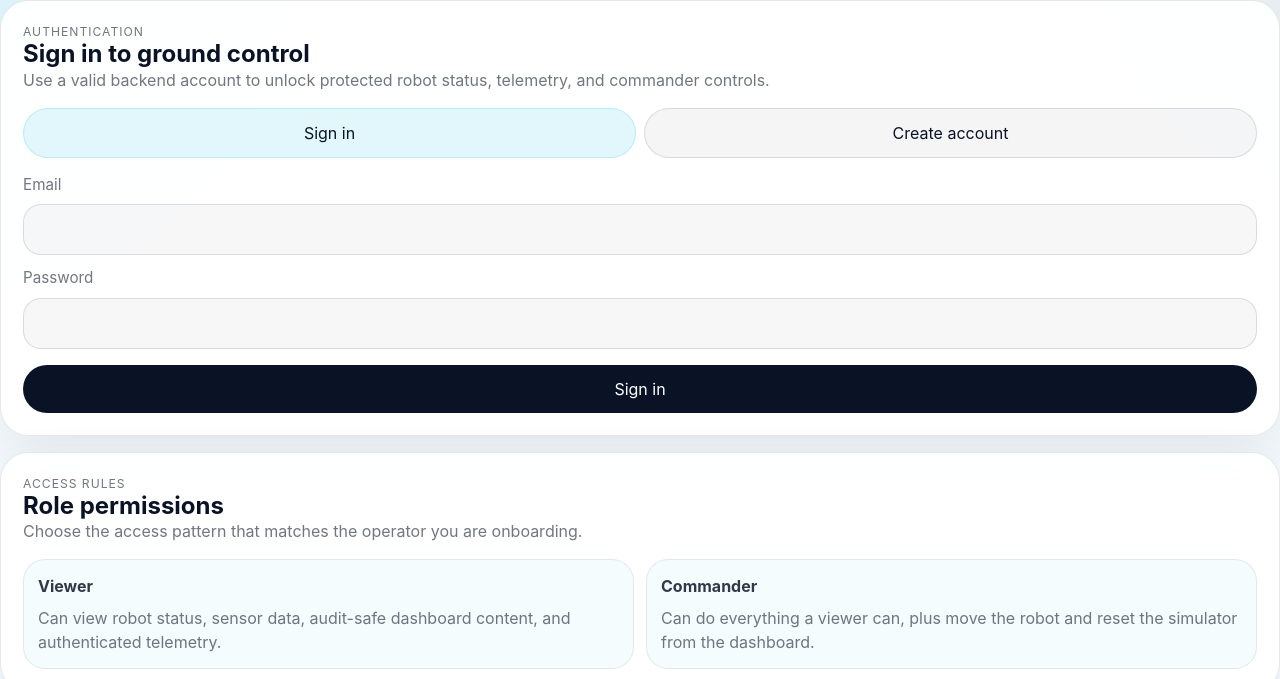
Test: LoginPanel › switches to create-account mode and submits the selected role
The width and height of the screenshot is (1280, 679).
Click the button "Create account" at (950, 133), box left=644, top=108, right=1257, bottom=158
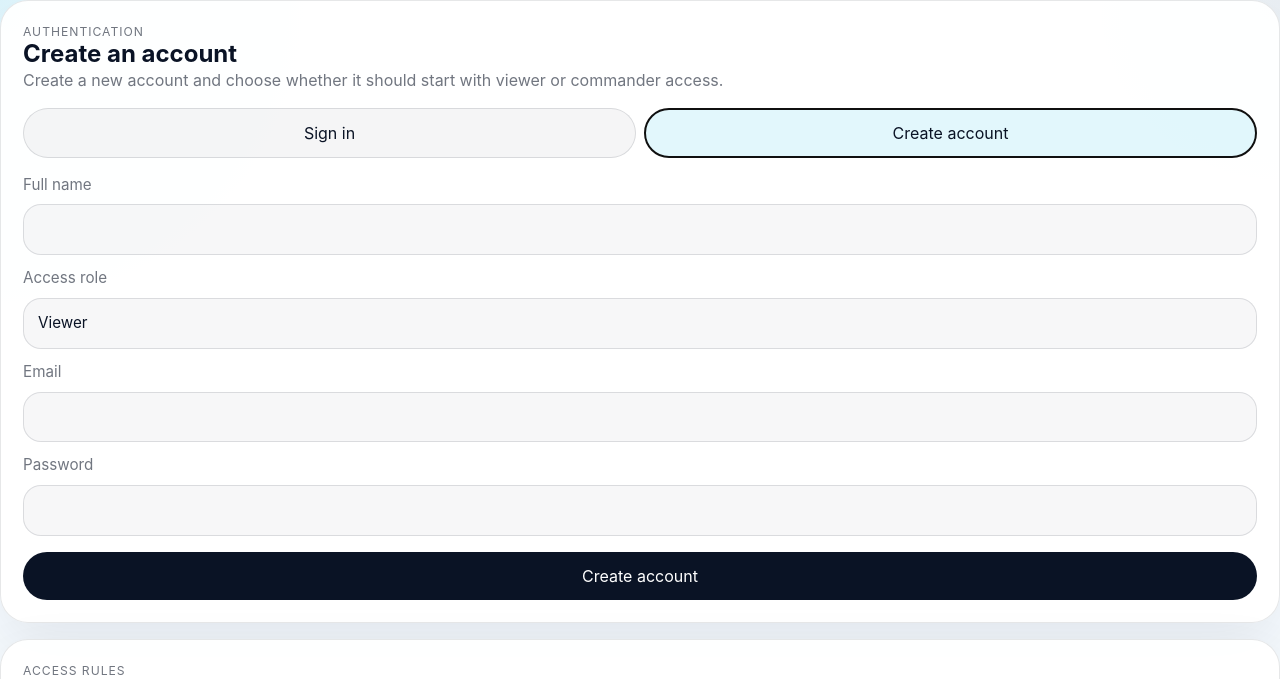
Type "New Commander" into the field labelled "Full name" at (640, 230), box left=23, top=204, right=1257, bottom=255
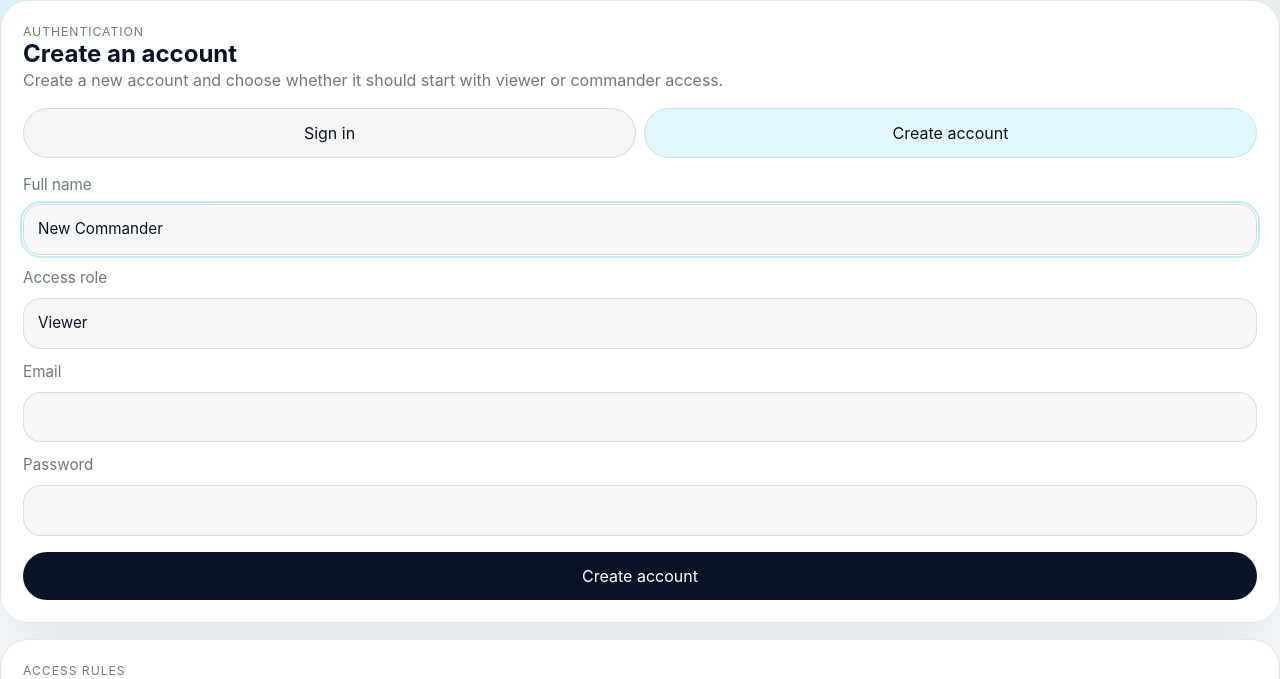
Type "new@example.com" into the field labelled "Email" at (640, 417), box left=23, top=392, right=1257, bottom=442
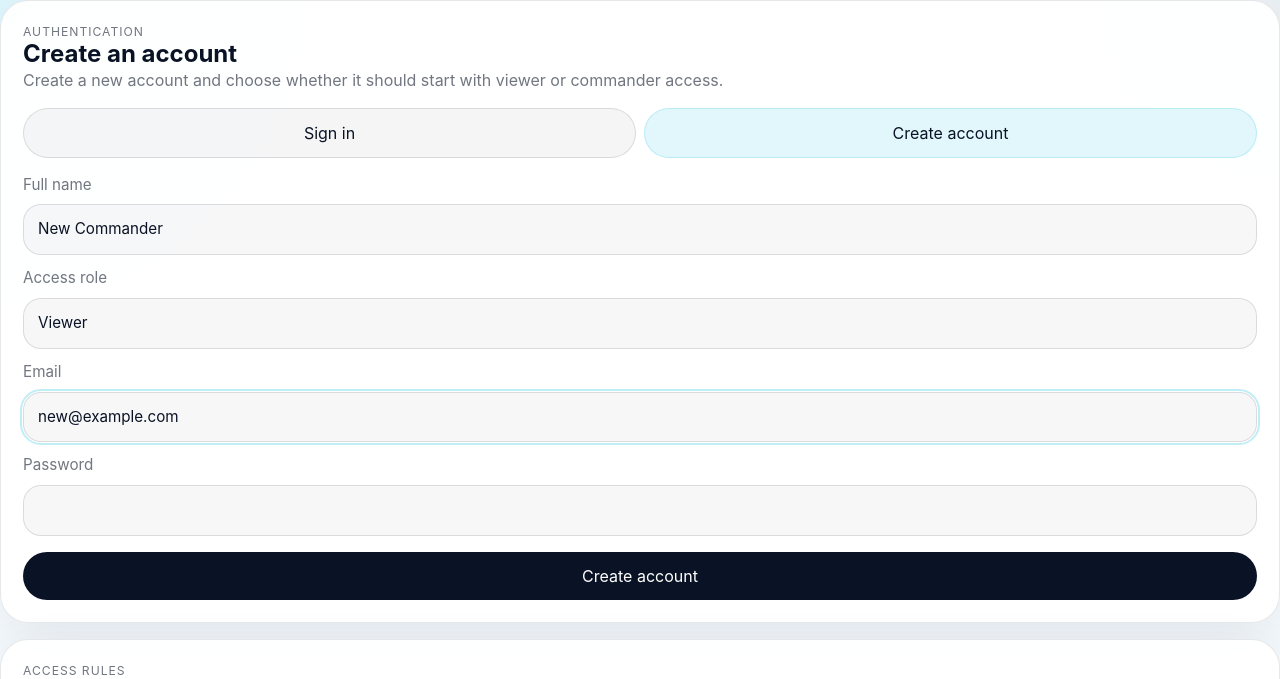
Type "password123" into the password field labelled "Password" at (640, 511), box left=23, top=485, right=1257, bottom=536
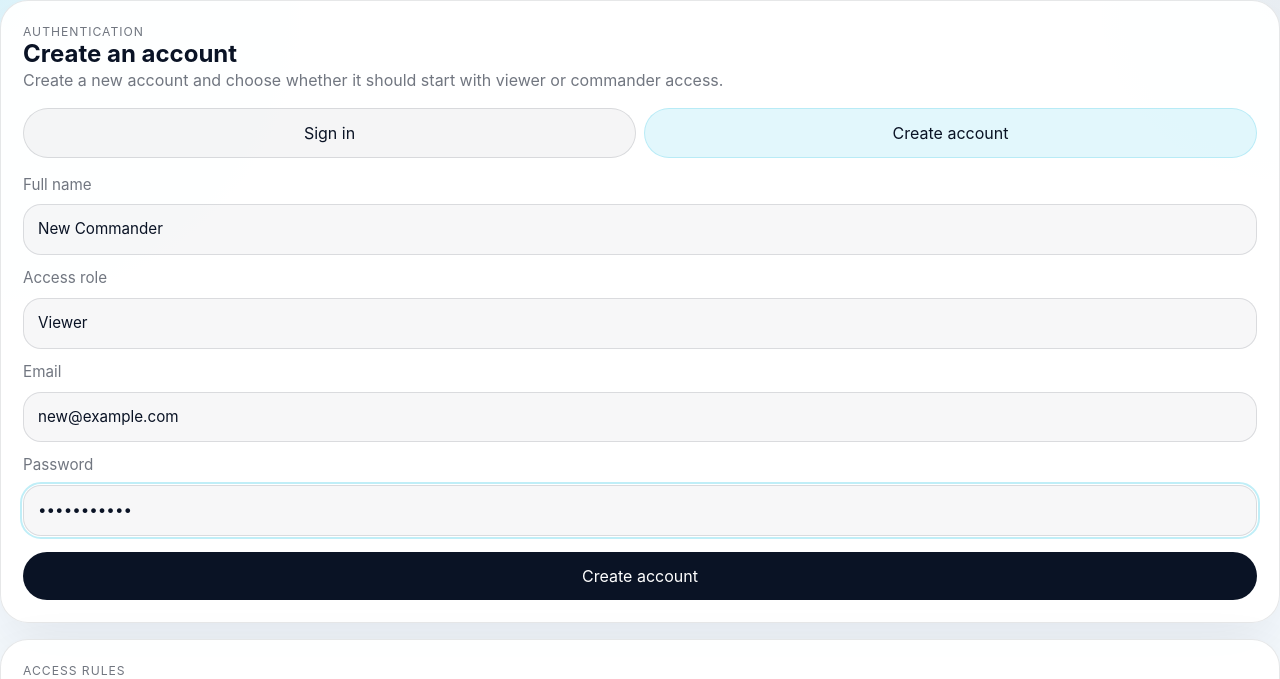
Select "Commander" in the dropdown labelled "Access role" at (640, 323), box left=23, top=298, right=1257, bottom=349
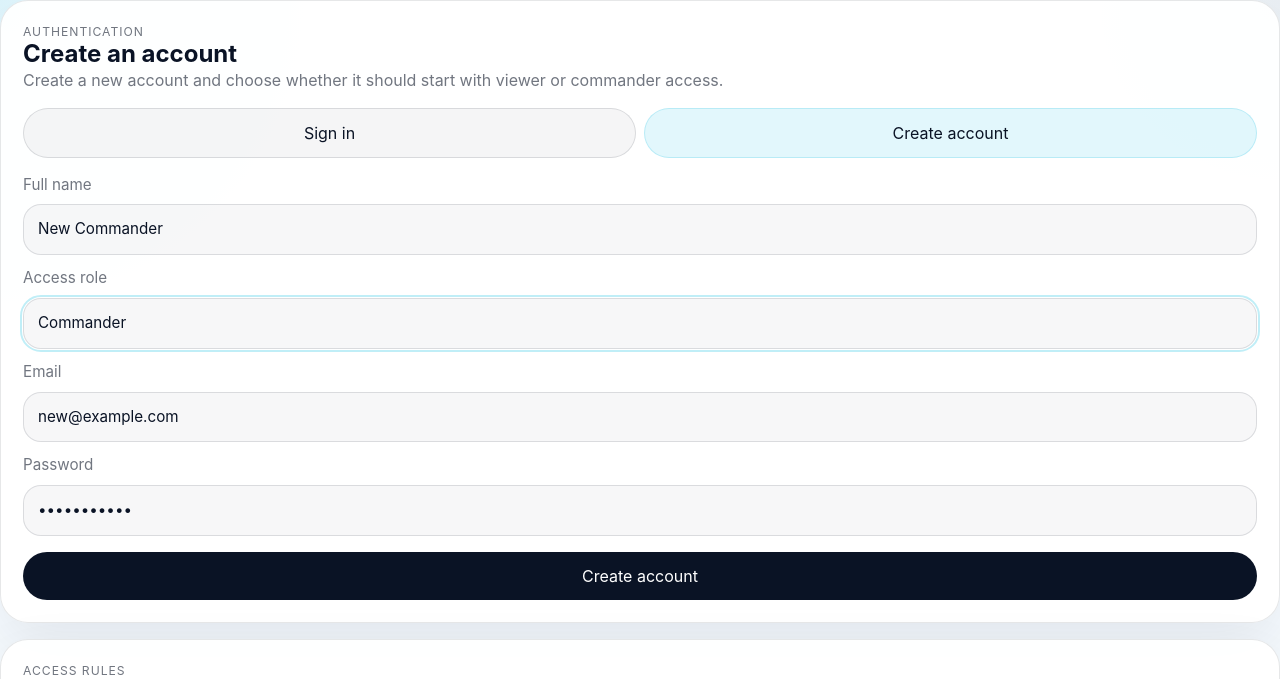
Click the button "Create account" below "Password" at (640, 576), box left=23, top=552, right=1257, bottom=600
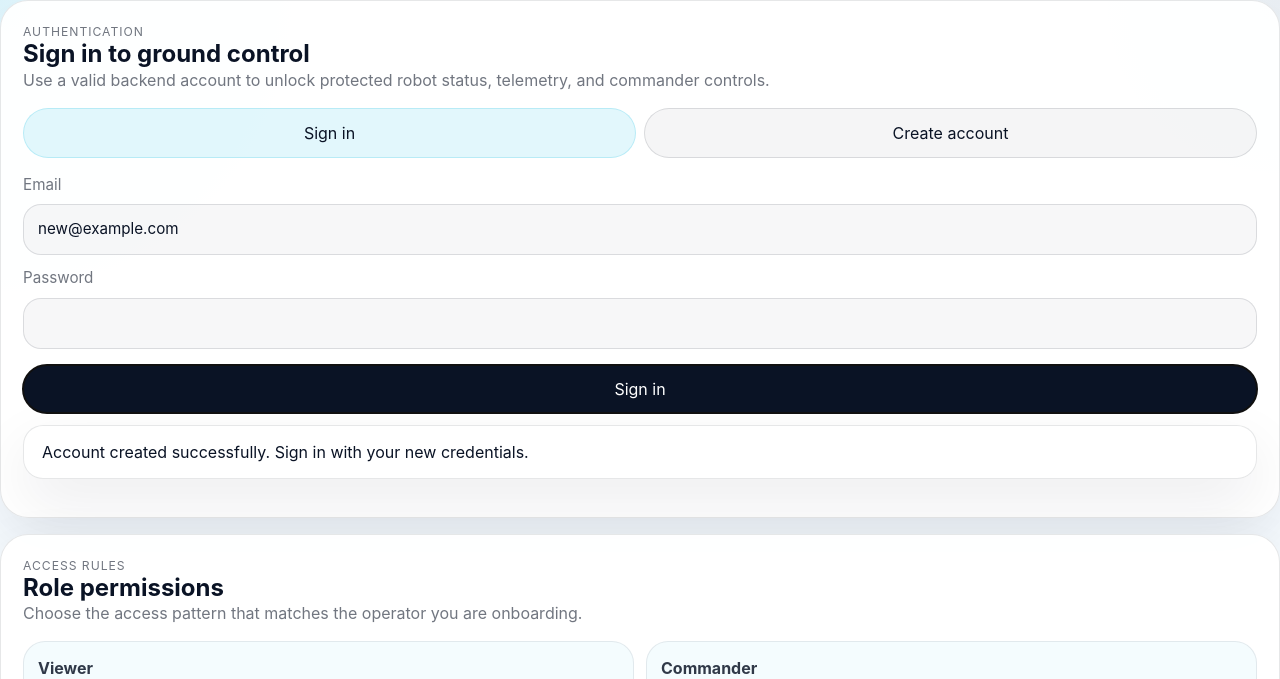
Check: the text "Account created successfully. Sign in with your new credentials." is shown, box left=23, top=425, right=1257, bottom=479
